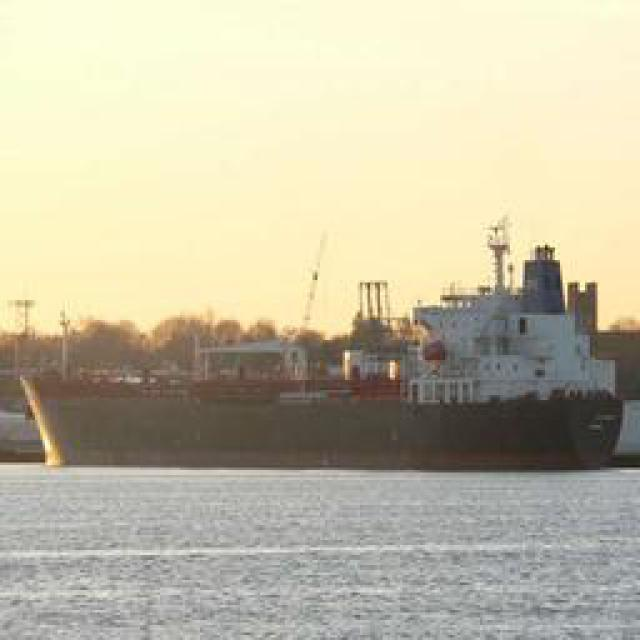Ship: (15, 227, 635, 477)
